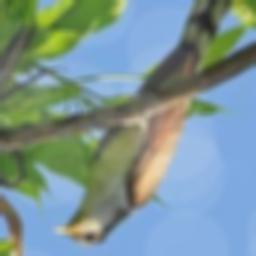Cuckoo: (52, 0, 237, 246)
